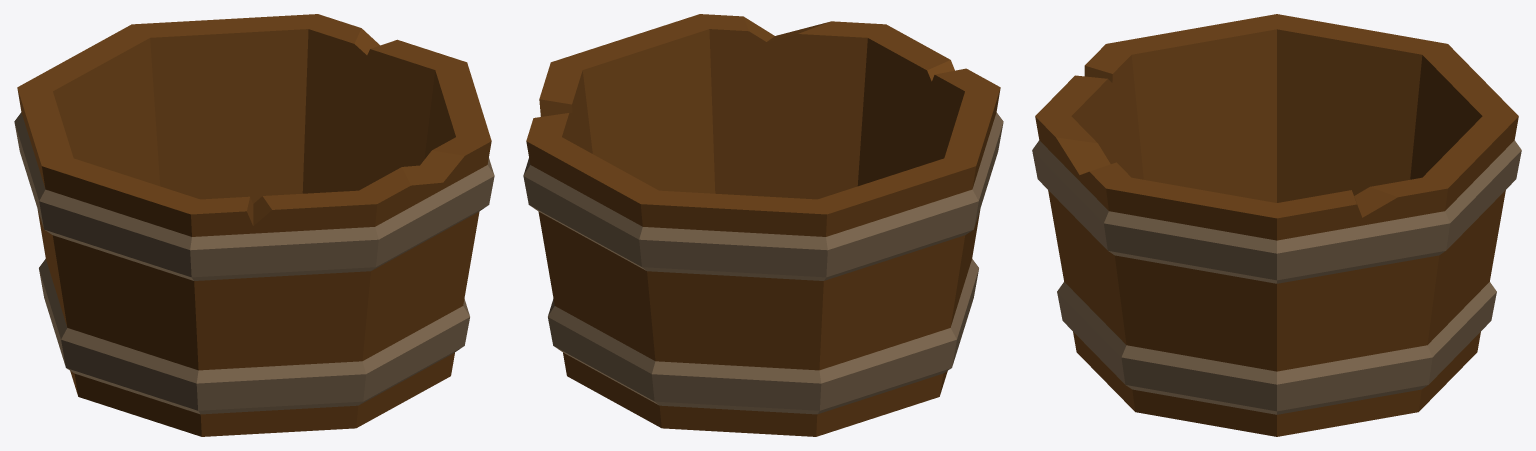
File: Bucket.fbx
3 renders of one model, left to right at view 1: azimuth 30°, elevation 25°; view 2: azimuth 150°, elevation 25°; view 3: azimuth 270°, elevation 25°, orthographic.
Parts seen in each view (by area): view 1: Bucket; view 2: Bucket; view 3: Bucket.
Part boxes in pixels (bbox=[...]): Bucket: bbox=[14, 14, 494, 436]; Bucket: bbox=[523, 14, 1003, 436]; Bucket: bbox=[1032, 14, 1521, 436].
Bounding box in the file's own units: 45.44 × 24.17 × 45.44.
